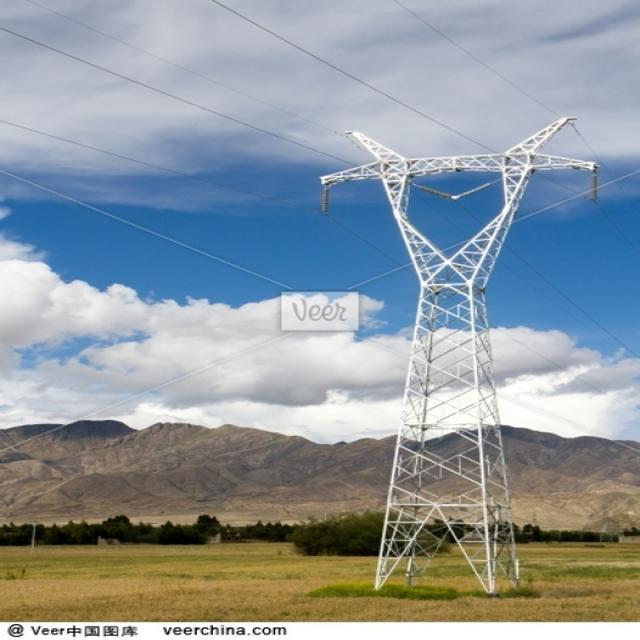non-critical vegetation: (302, 121, 600, 594)
